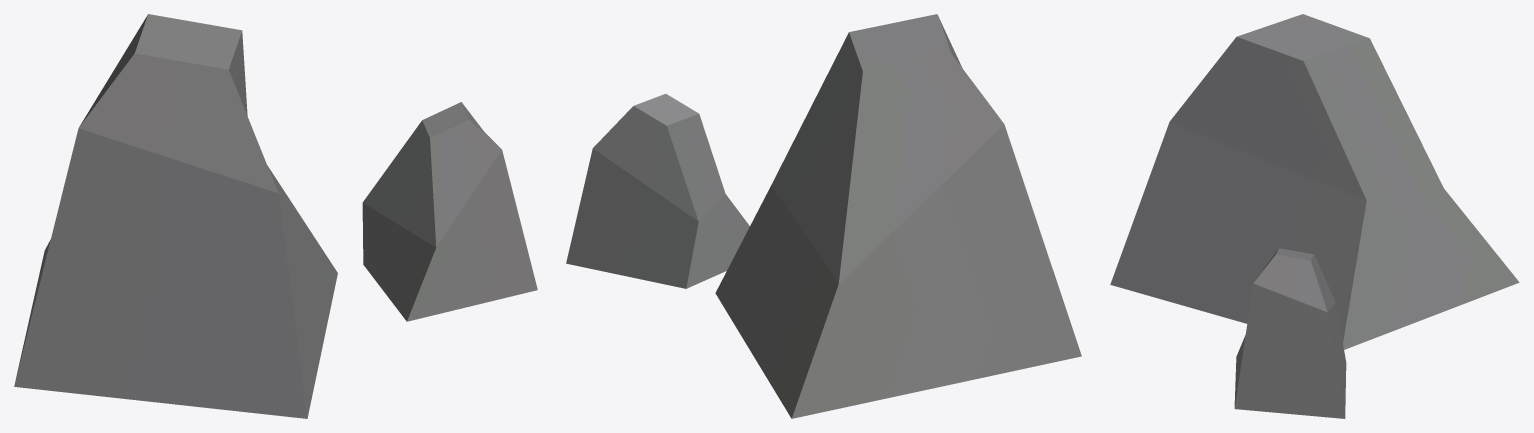
File: stone_1.glb
3 views of the same model, side by side, from view 1: azimuth 30°, elevation 25°; view 2: azimuth 150°, elevation 25°; view 3: azimuth 270°, elevation 25° (orthographic). The views are drawn at different scales.
Visible parts, largest first — view 1: Cone; view 2: Cone; view 3: Cone.
Boxes of the visible parts, x1,y1,x2,y2 form: Cone: [14, 14, 537, 418]; Cone: [566, 14, 1081, 418]; Cone: [1110, 14, 1519, 418].
Bounding box in the file's own units: 3.53 × 1.99 × 2.93.
1 material, 1 textured.
